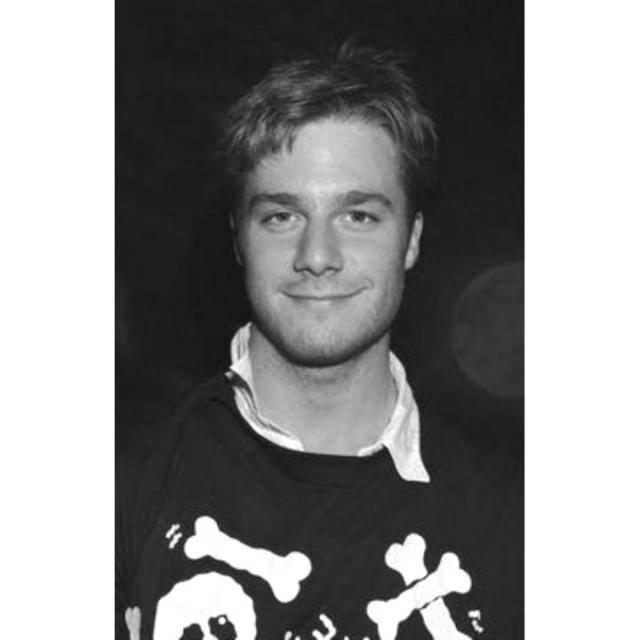real: (237, 118, 408, 364)
